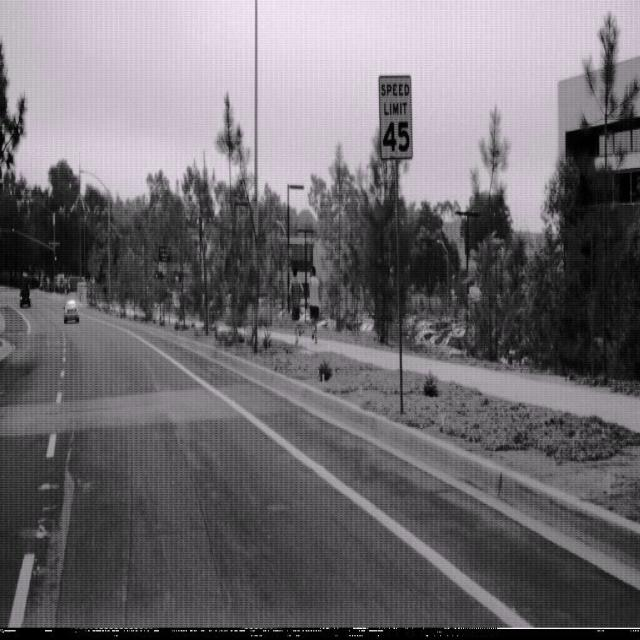speedLimit45: (378, 72, 413, 162)
